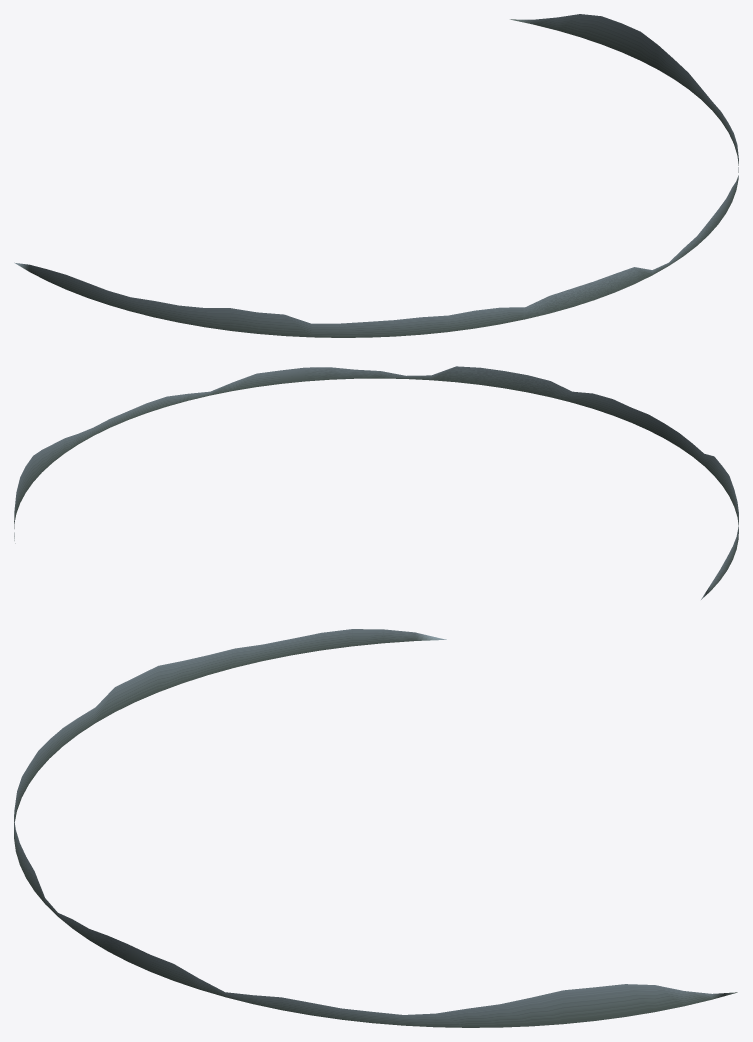
The model's file is SM_Fondale_Tenda_LOD2.fbx.
3 renders of one model, top to bottom at view 1: azimuth 30°, elevation 25°; view 2: azimuth 150°, elevation 25°; view 3: azimuth 270°, elevation 25°, orthographic. The views are drawn at different scales.
Visible parts, largest first — view 1: SM_Fondale_Tenda_LOD2; view 2: SM_Fondale_Tenda_LOD2; view 3: SM_Fondale_Tenda_LOD2.
Boxes of the visible parts, x1,y1,x2,y2 form: SM_Fondale_Tenda_LOD2: (14, 14, 738, 337); SM_Fondale_Tenda_LOD2: (14, 366, 738, 599); SM_Fondale_Tenda_LOD2: (14, 629, 737, 1027).
Bounding box in the file's own units: 2597747 × 2050880 × 105809.
1 material, 1 textured.
